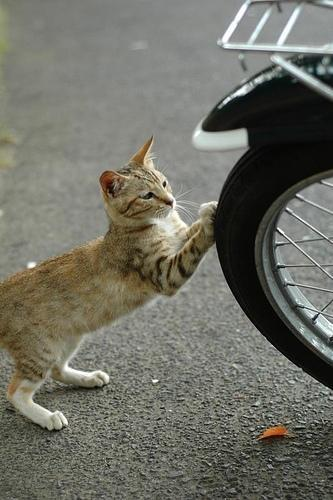bicycle: (194, 1, 333, 396)
motorcycle: (190, 2, 330, 390)
